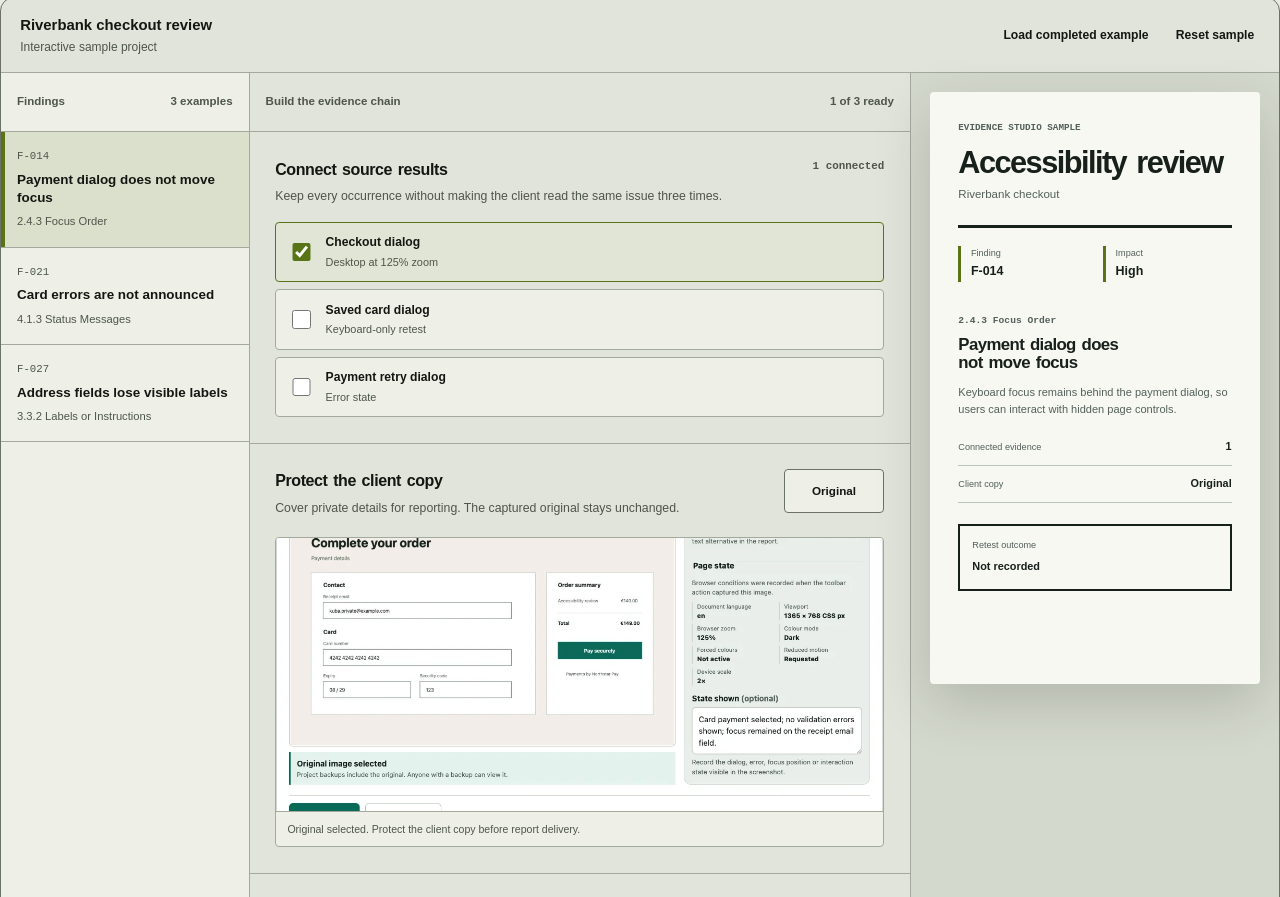
PremiumDemo › prepares an export after the evidence chain is complete
Click the switch named "protect the client copy" at {"x": 834, "y": 491}, box [784,469,884,513]
(page scrolled)
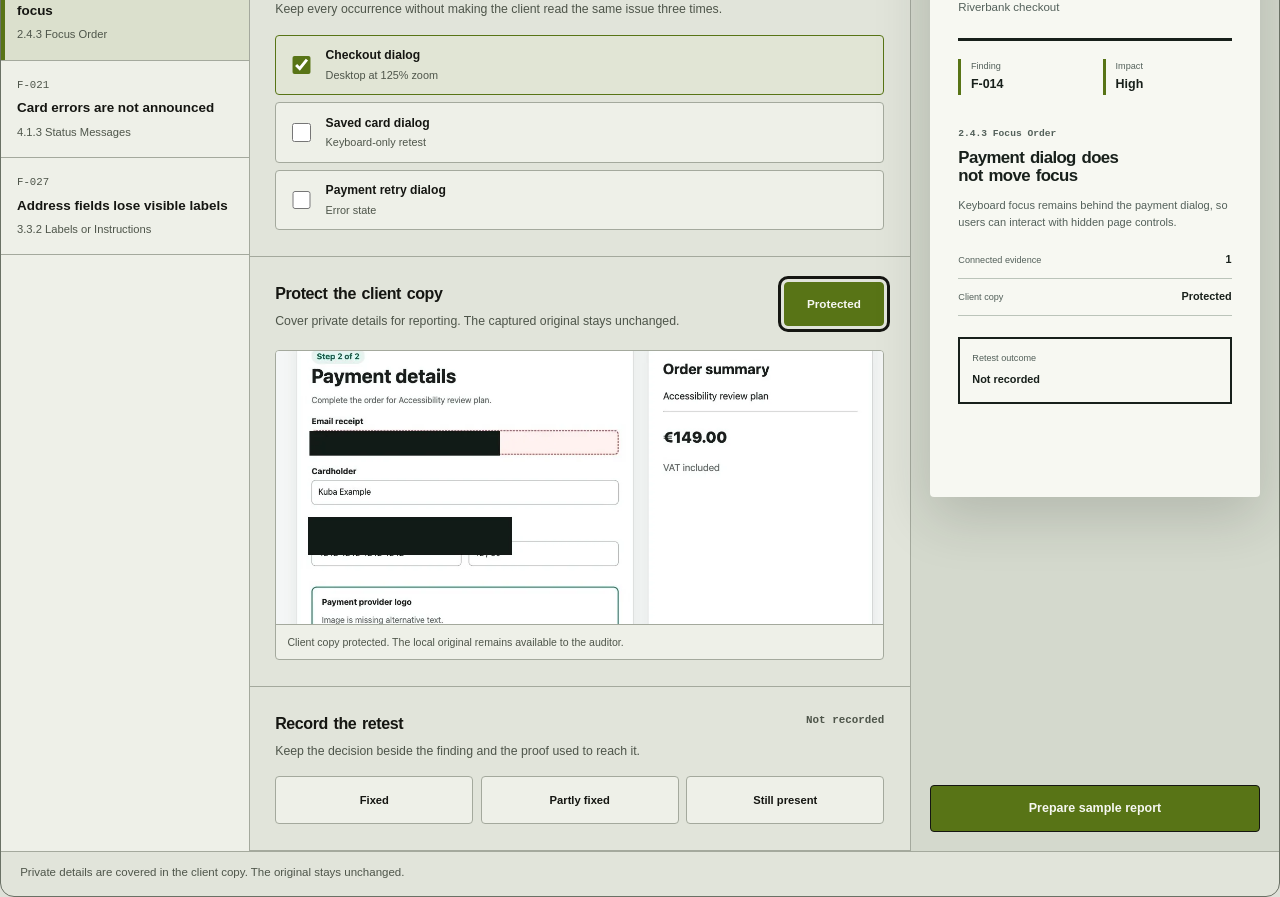
Click the radio button labelled "Fixed" at {"x": 374, "y": 800}, box [275,776,474,824]
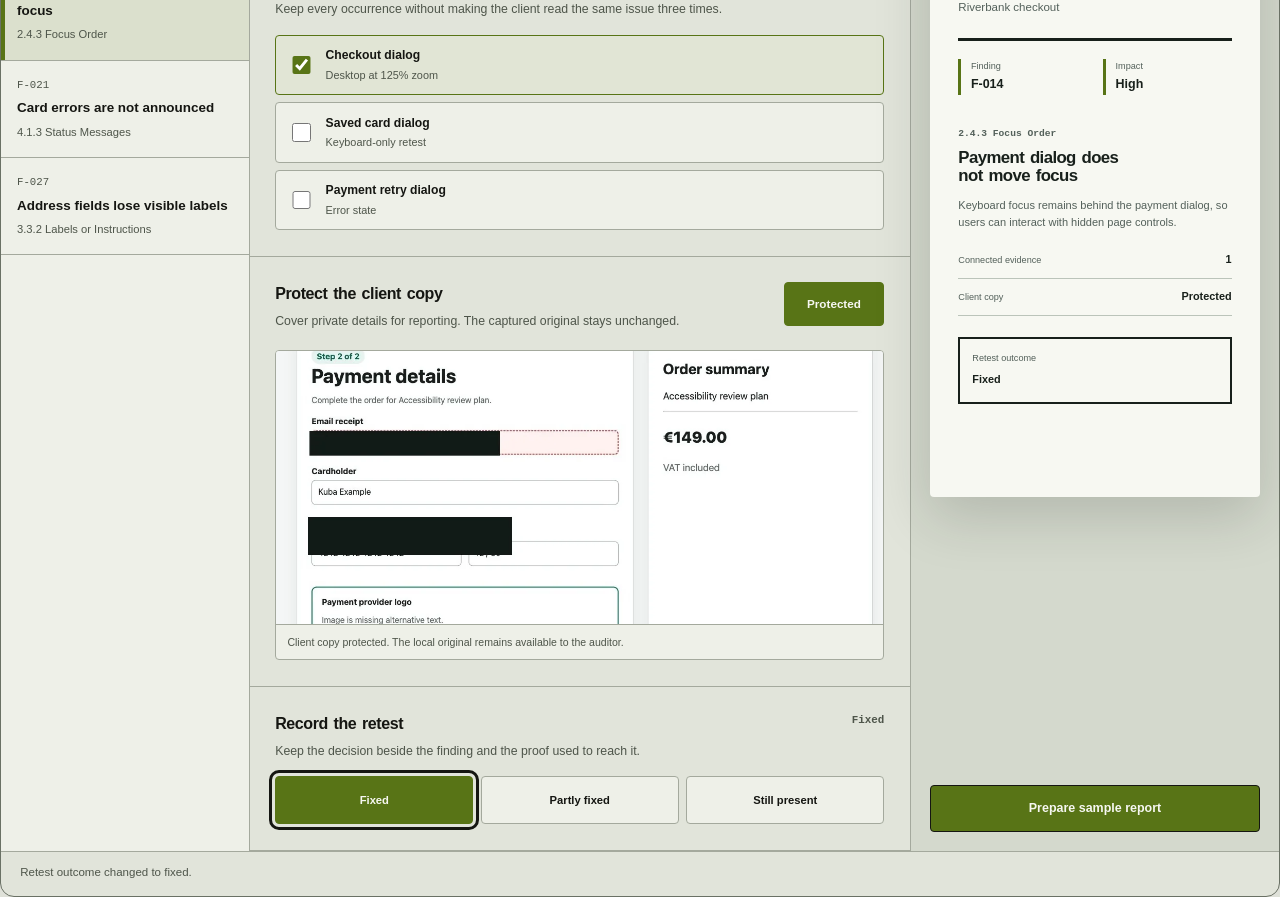
Click the button "Prepare sample report" at {"x": 1095, "y": 808}, box [930,785,1260,832]
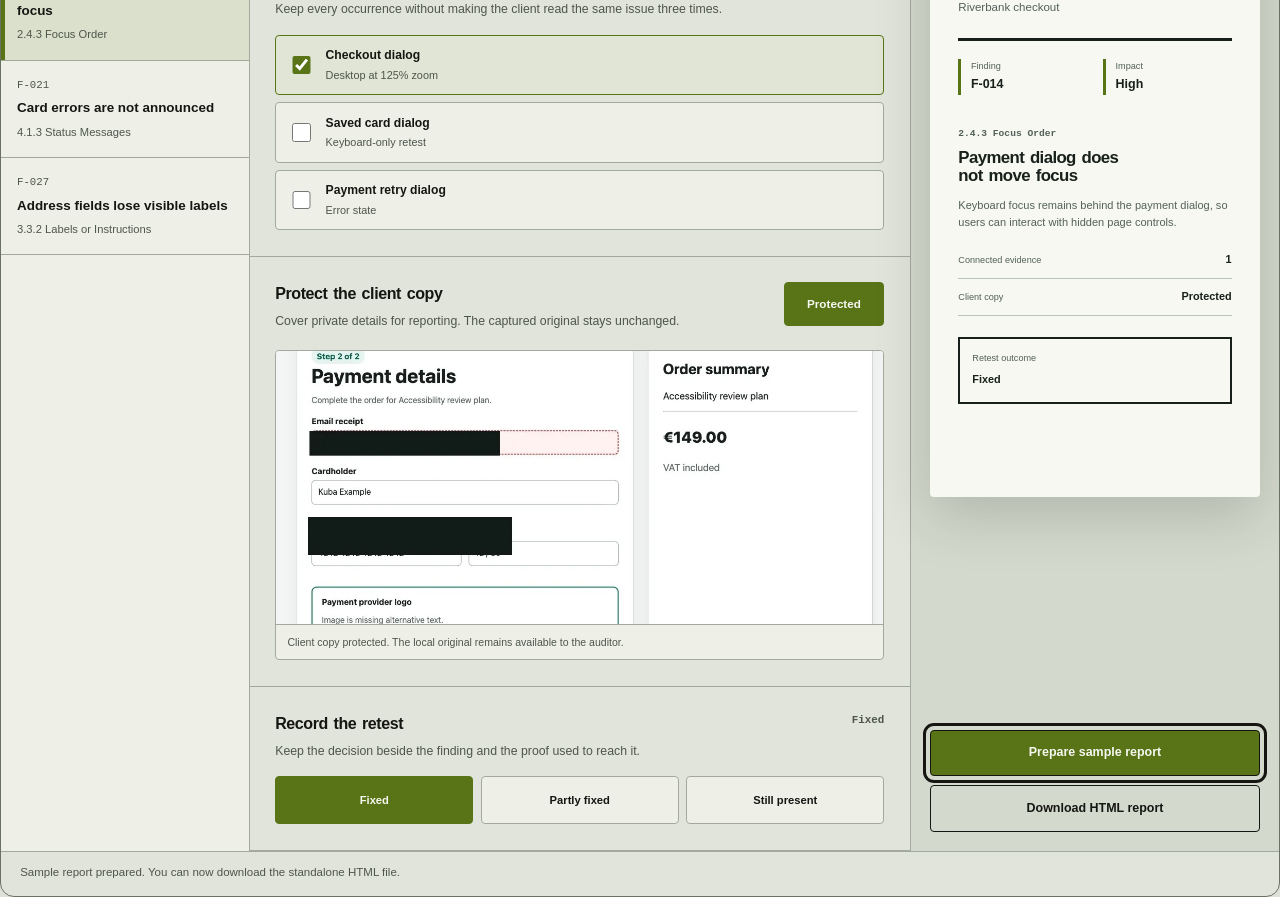
Result: the button "Download HTML report" is shown at [930,785,1260,832]
Result: the text "Sample report prepared" is shown at [20,866,400,878]
